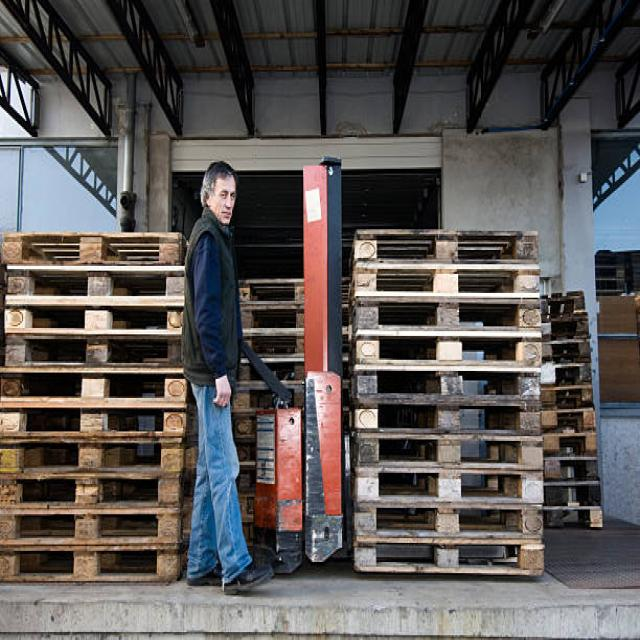Wooden-Pallets: (0, 366, 185, 415), (3, 223, 183, 272), (350, 330, 544, 375), (349, 399, 543, 443), (348, 472, 546, 511), (350, 227, 538, 268), (345, 298, 540, 337), (352, 266, 545, 304), (347, 543, 549, 579), (0, 299, 185, 338), (0, 434, 185, 473), (2, 338, 184, 377), (0, 399, 184, 437), (350, 374, 546, 409), (351, 509, 545, 543), (345, 438, 543, 471), (0, 544, 180, 578), (4, 266, 183, 300), (0, 512, 188, 544), (0, 481, 185, 512)
